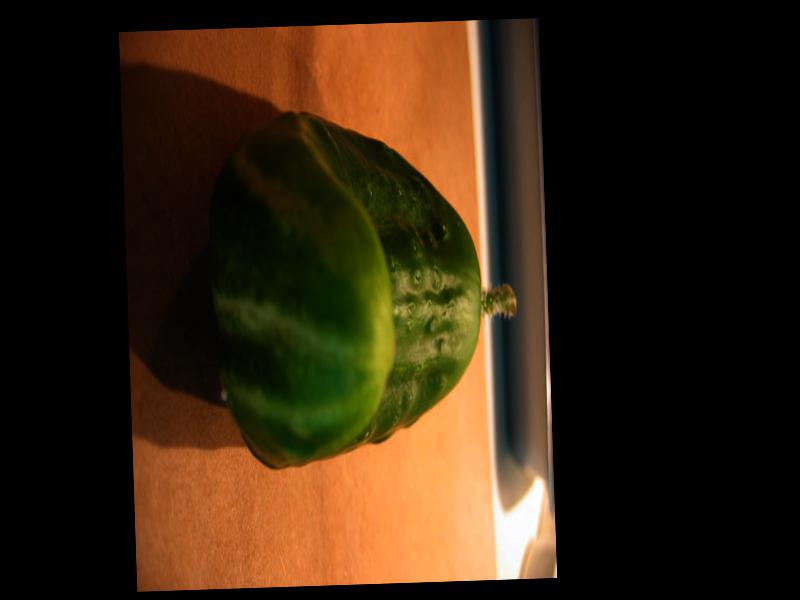Cucumber: (203, 107, 522, 474)
